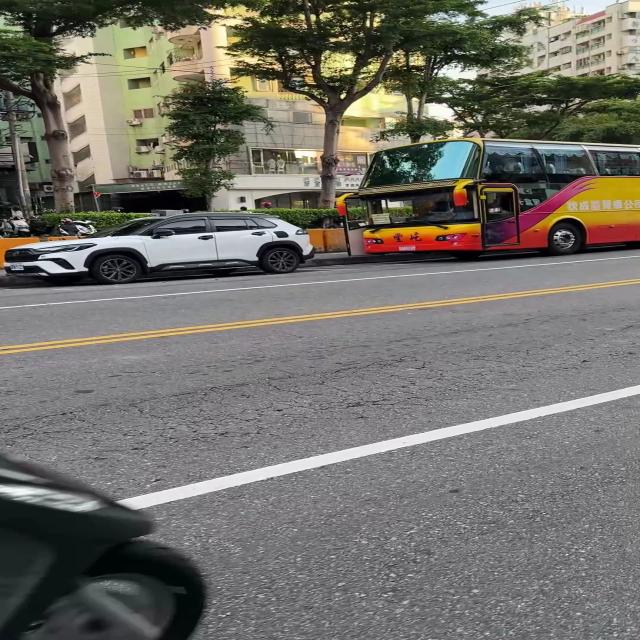bus: (351, 139, 640, 259)
car: (4, 212, 315, 284)
motocycle: (0, 456, 205, 639)
